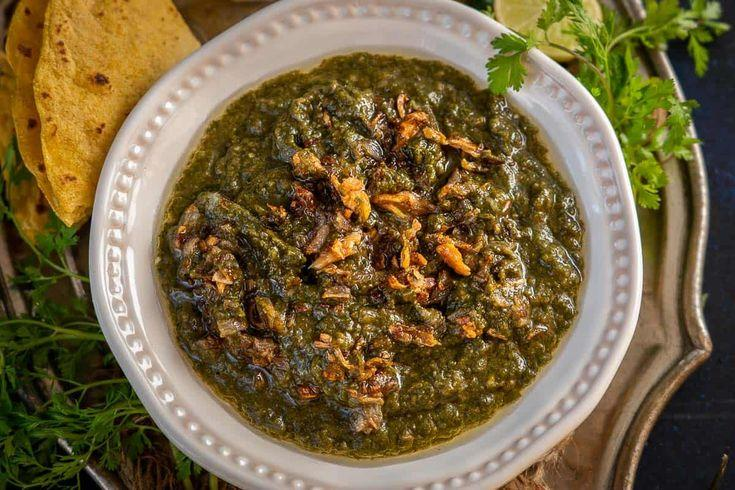saag: (166, 55, 581, 459)
